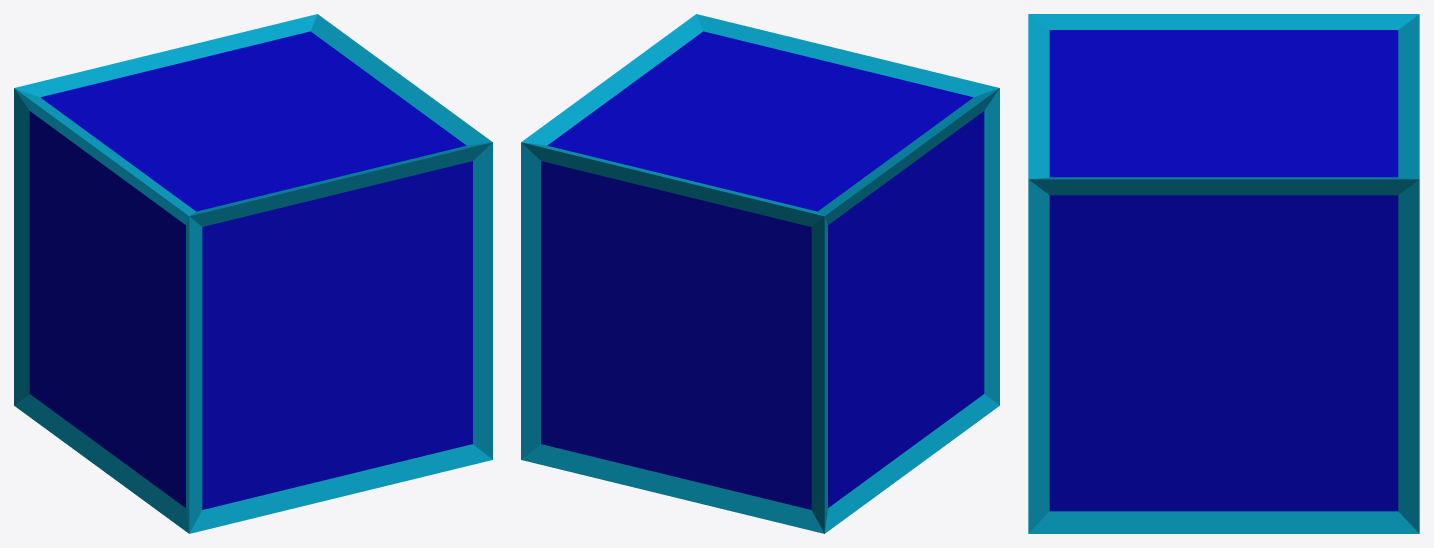
Rendered from cube0Blue.obj.
3 views of the same model, side by side, from view 1: azimuth 30°, elevation 25°; view 2: azimuth 150°, elevation 25°; view 3: azimuth 270°, elevation 25° (orthographic). The views are drawn at different scales.
Parts seen in each view (by area): view 1: Cube_Cube.001_Material.001, Cube_Cube.001_Material.002; view 2: Cube_Cube.001_Material.001, Cube_Cube.001_Material.002; view 3: Cube_Cube.001_Material.001, Cube_Cube.001_Material.002.
Part boxes in pixels (box(x1,y1,x2,y2)): Cube_Cube.001_Material.001: box(29, 31, 472, 509); Cube_Cube.001_Material.002: box(14, 14, 492, 533); Cube_Cube.001_Material.001: box(541, 31, 984, 509); Cube_Cube.001_Material.002: box(521, 14, 999, 533); Cube_Cube.001_Material.001: box(1049, 30, 1398, 511); Cube_Cube.001_Material.002: box(1028, 14, 1419, 533).
Size of the model in its own units: 1.04 by 1.04 by 1.04.
